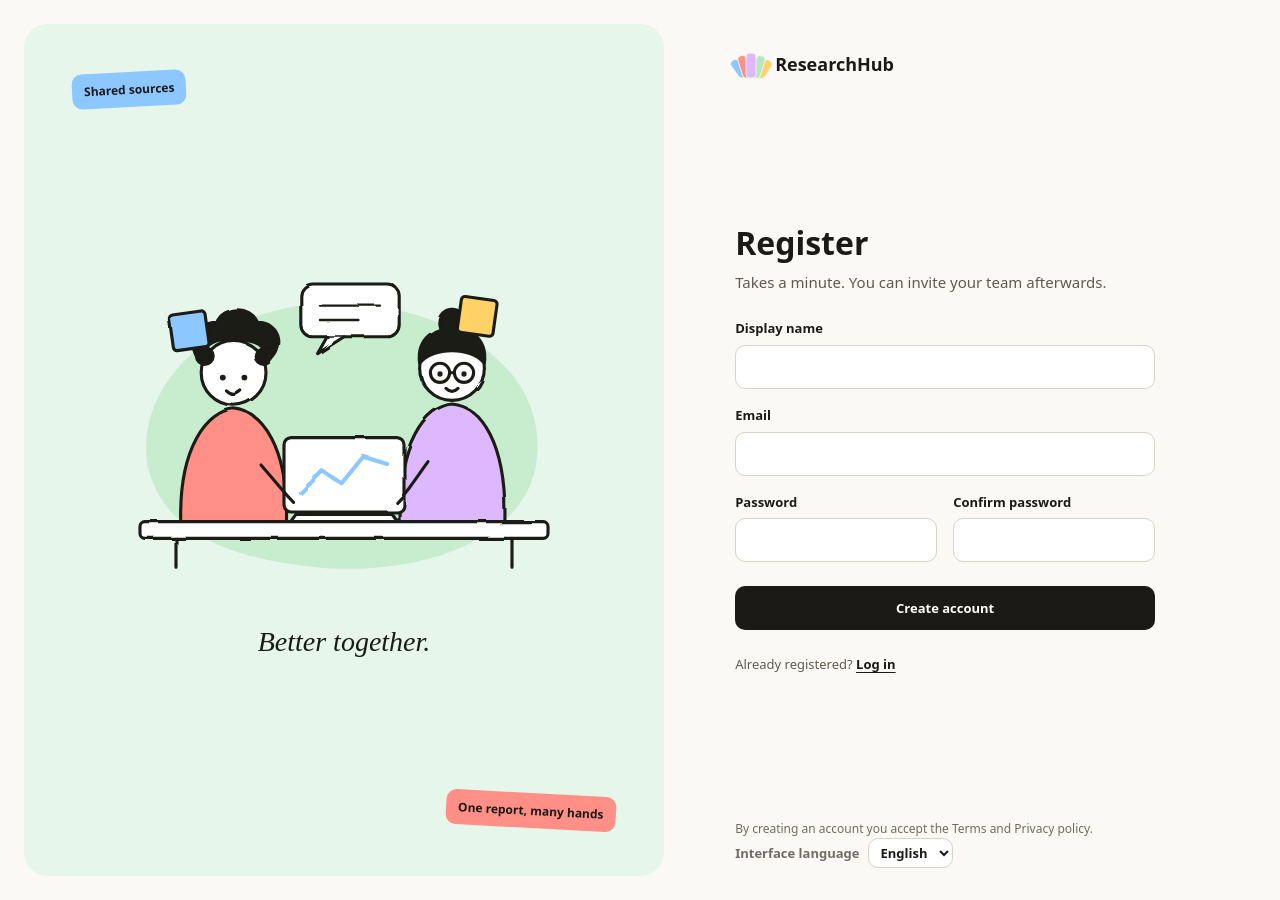
Test: RegisterPage › preserves server field messages and their associations
The image size is (1280, 900).
In the field labelled "Display name": (945, 367) [735,345,1155,389], type "Ada"
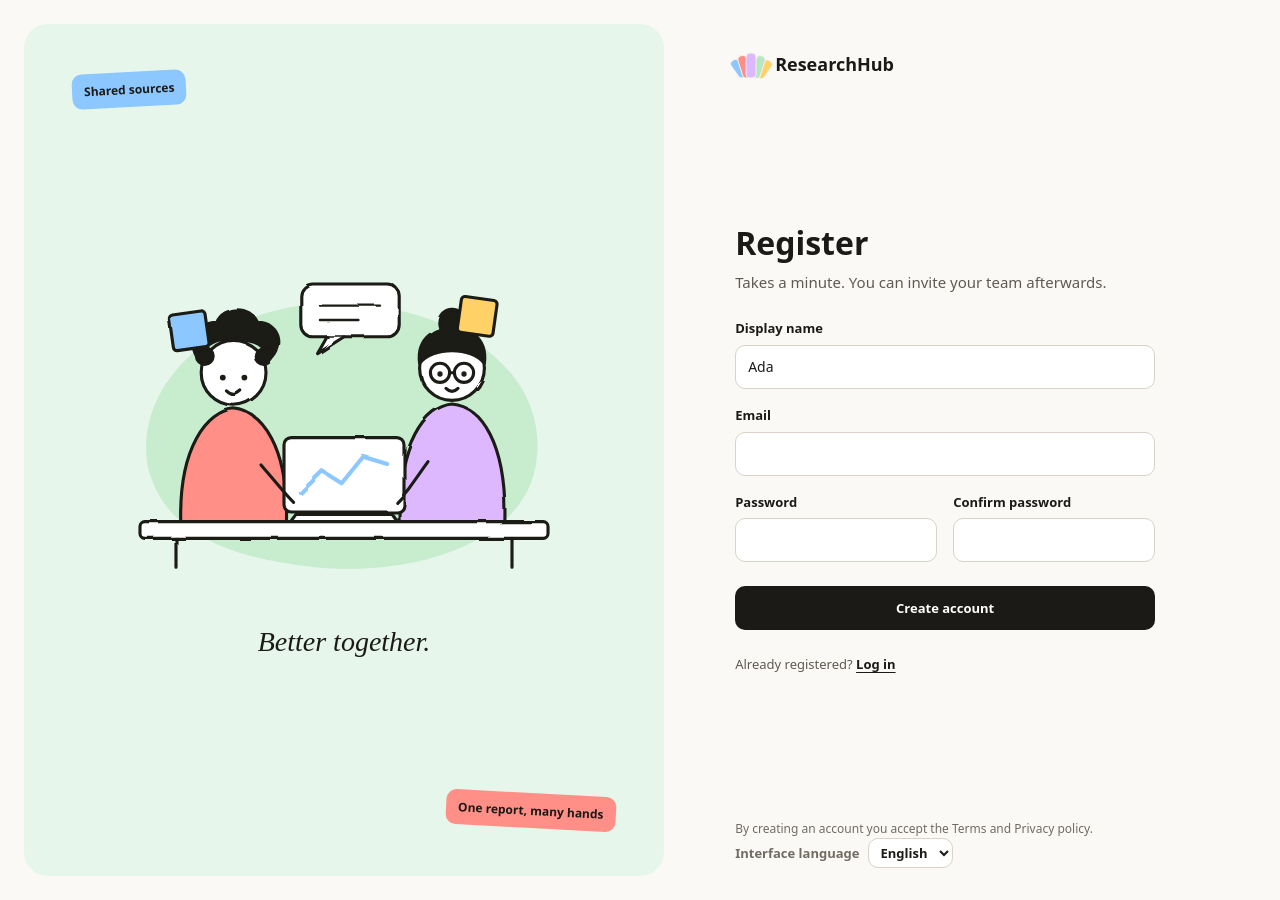
In the field labelled "Email": (945, 454) [735,432,1155,476], type "ada@example.com"
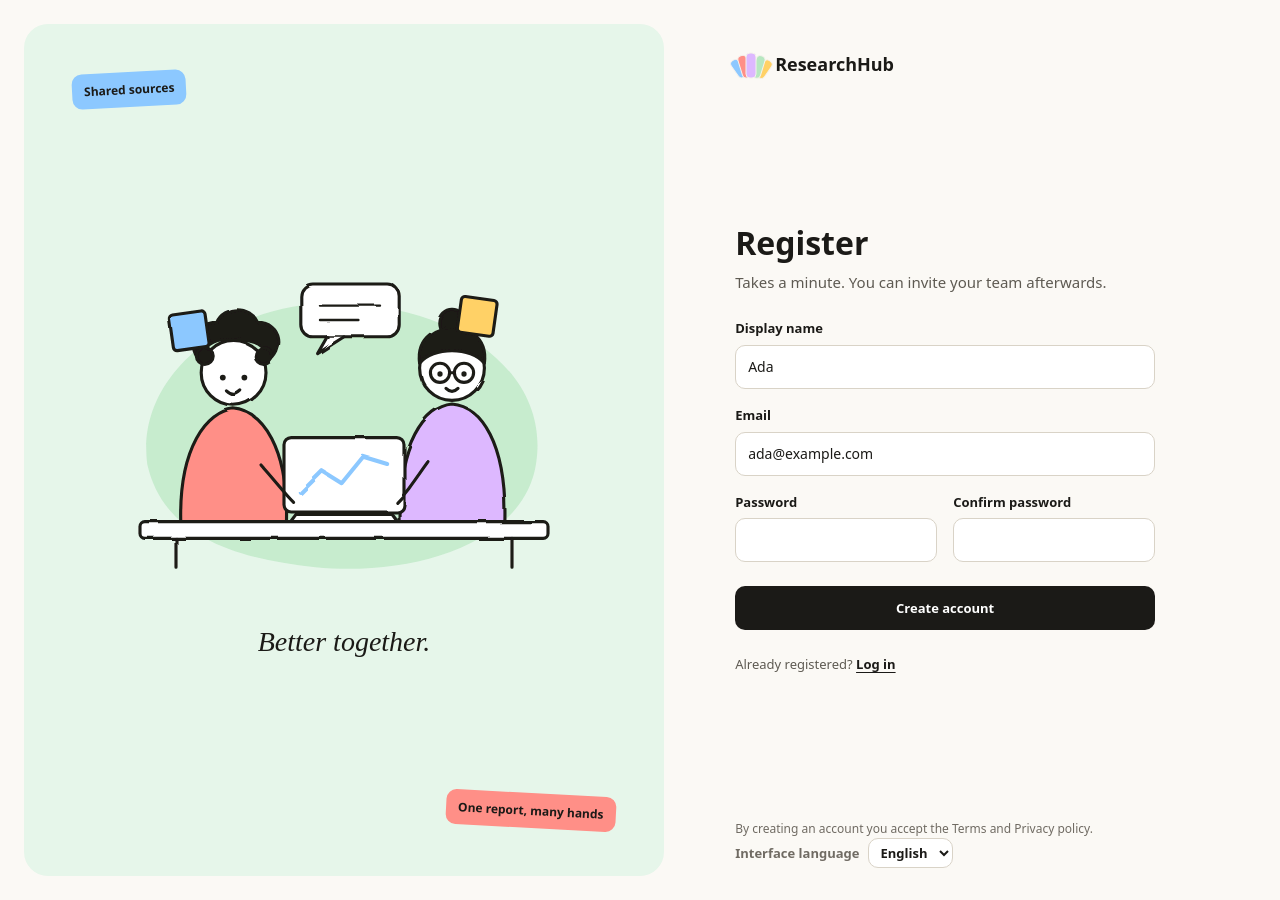
In the password field labelled "Password": (836, 540) [735,518,937,562], type " a-long-enough-password "
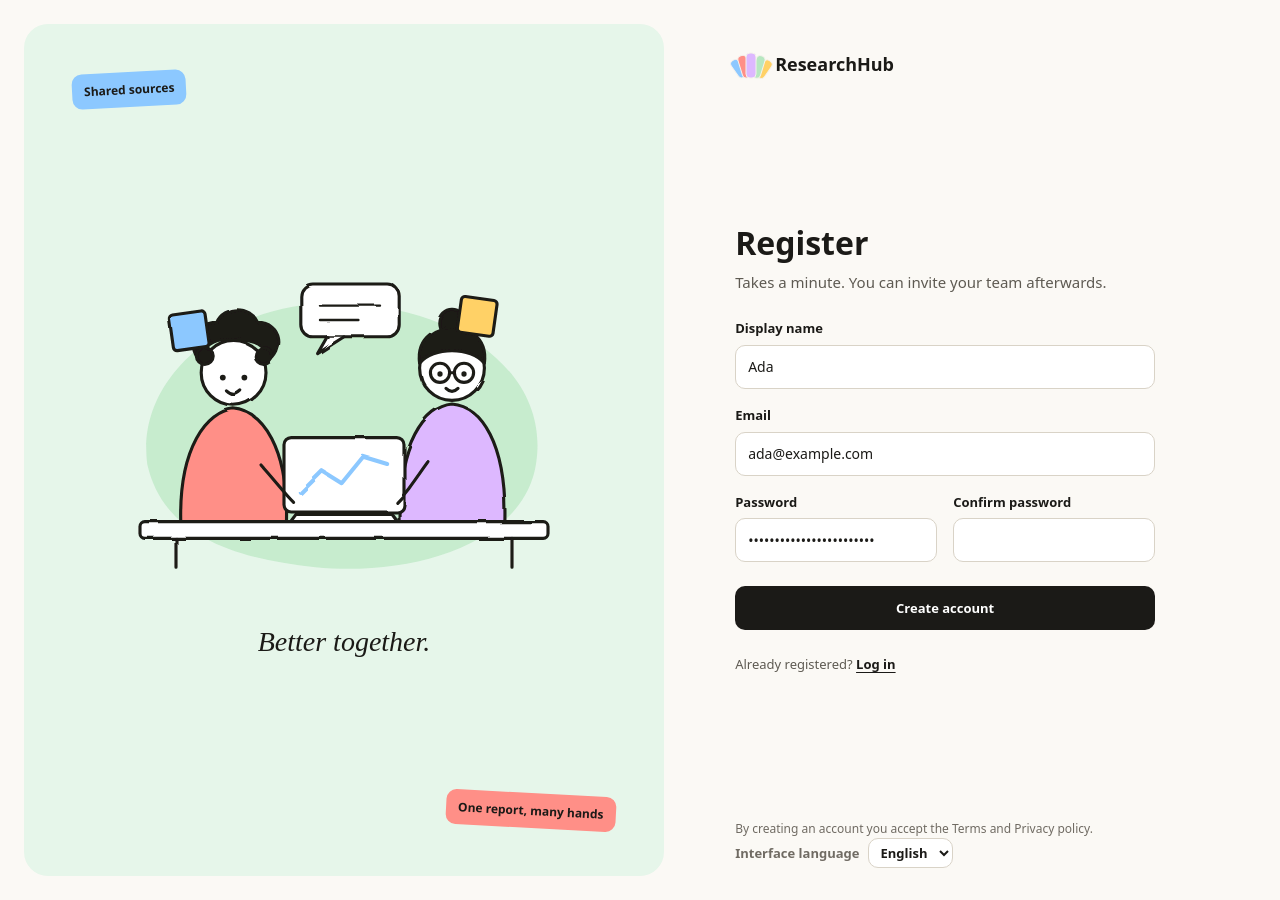
In the password field labelled "Confirm password": (1054, 540) [953,518,1155,562], type " a-long-enough-password "
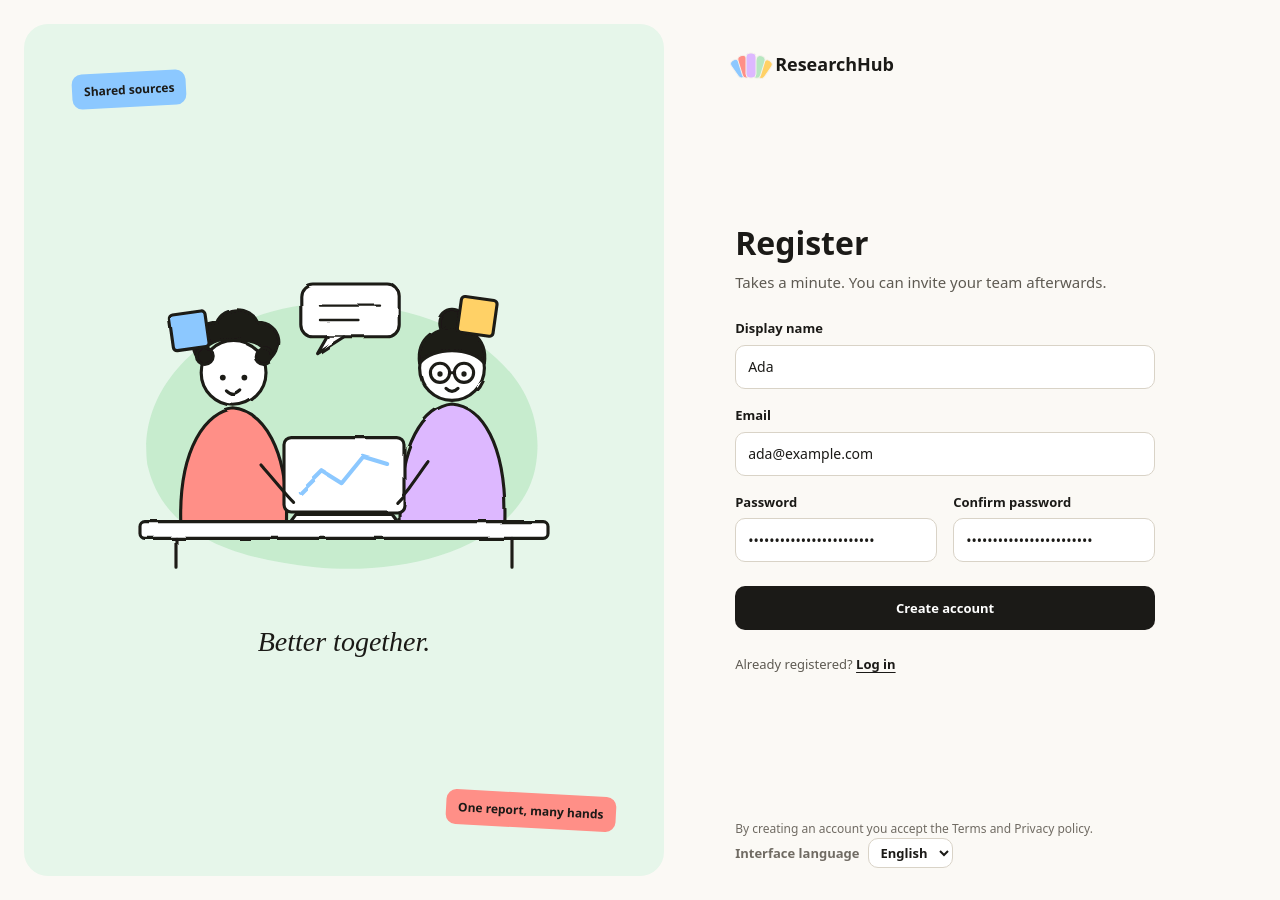
Click the button "Create account": (945, 608) [735,586,1155,630]
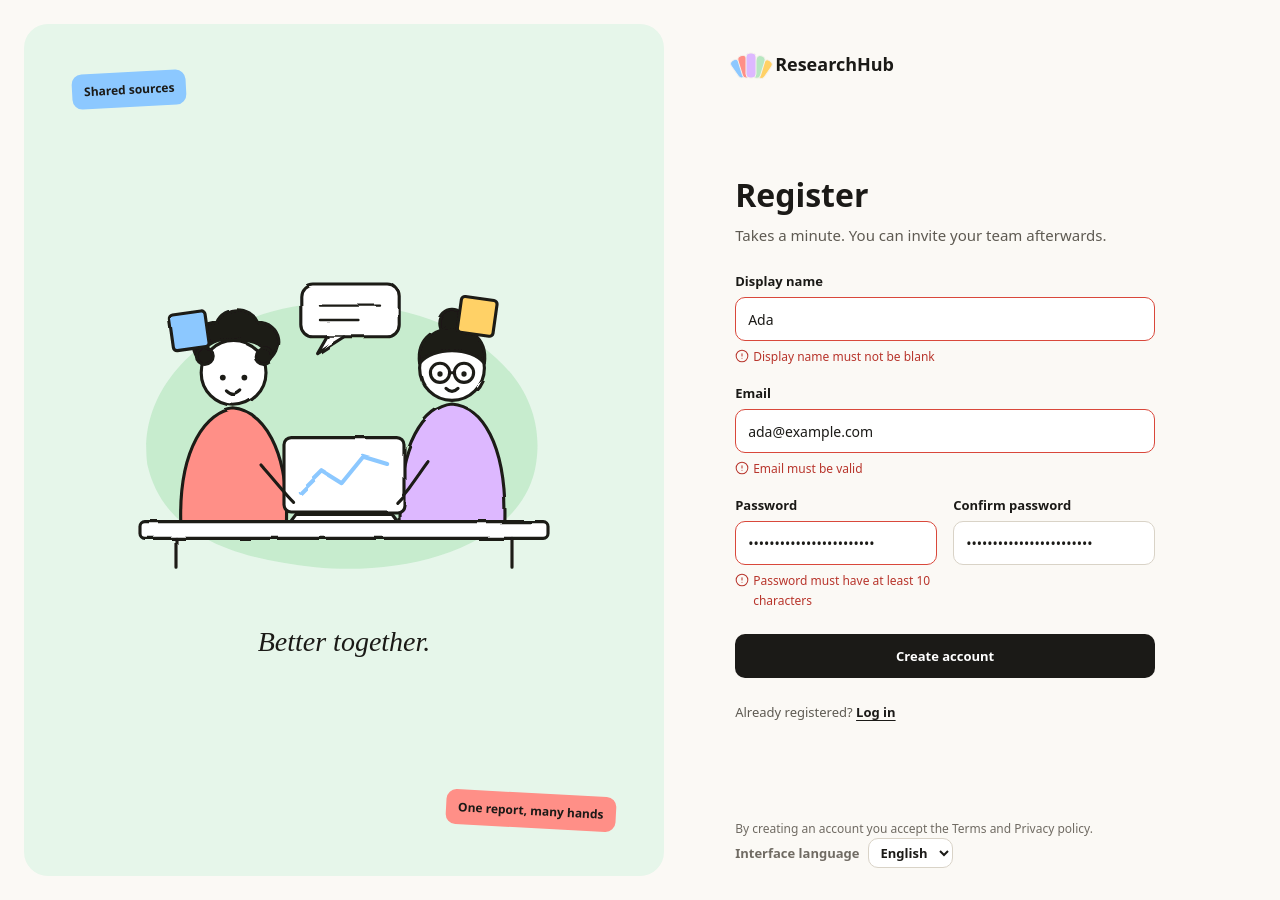
Result: the text "Email must be valid" is shown at [735,460,863,477]
